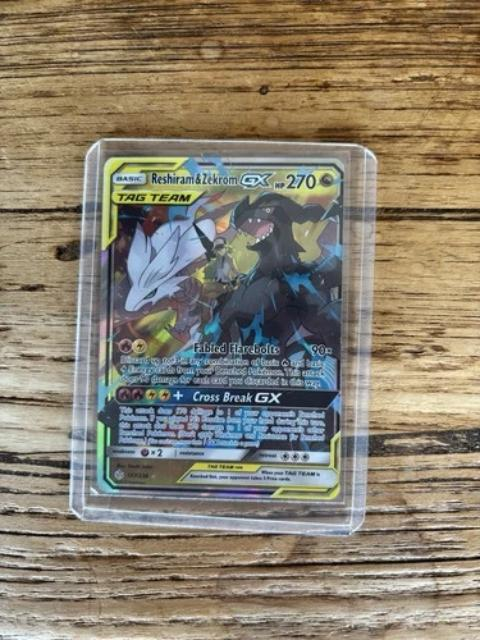Card: (93, 152, 350, 503)
Name: (146, 167, 281, 193)
